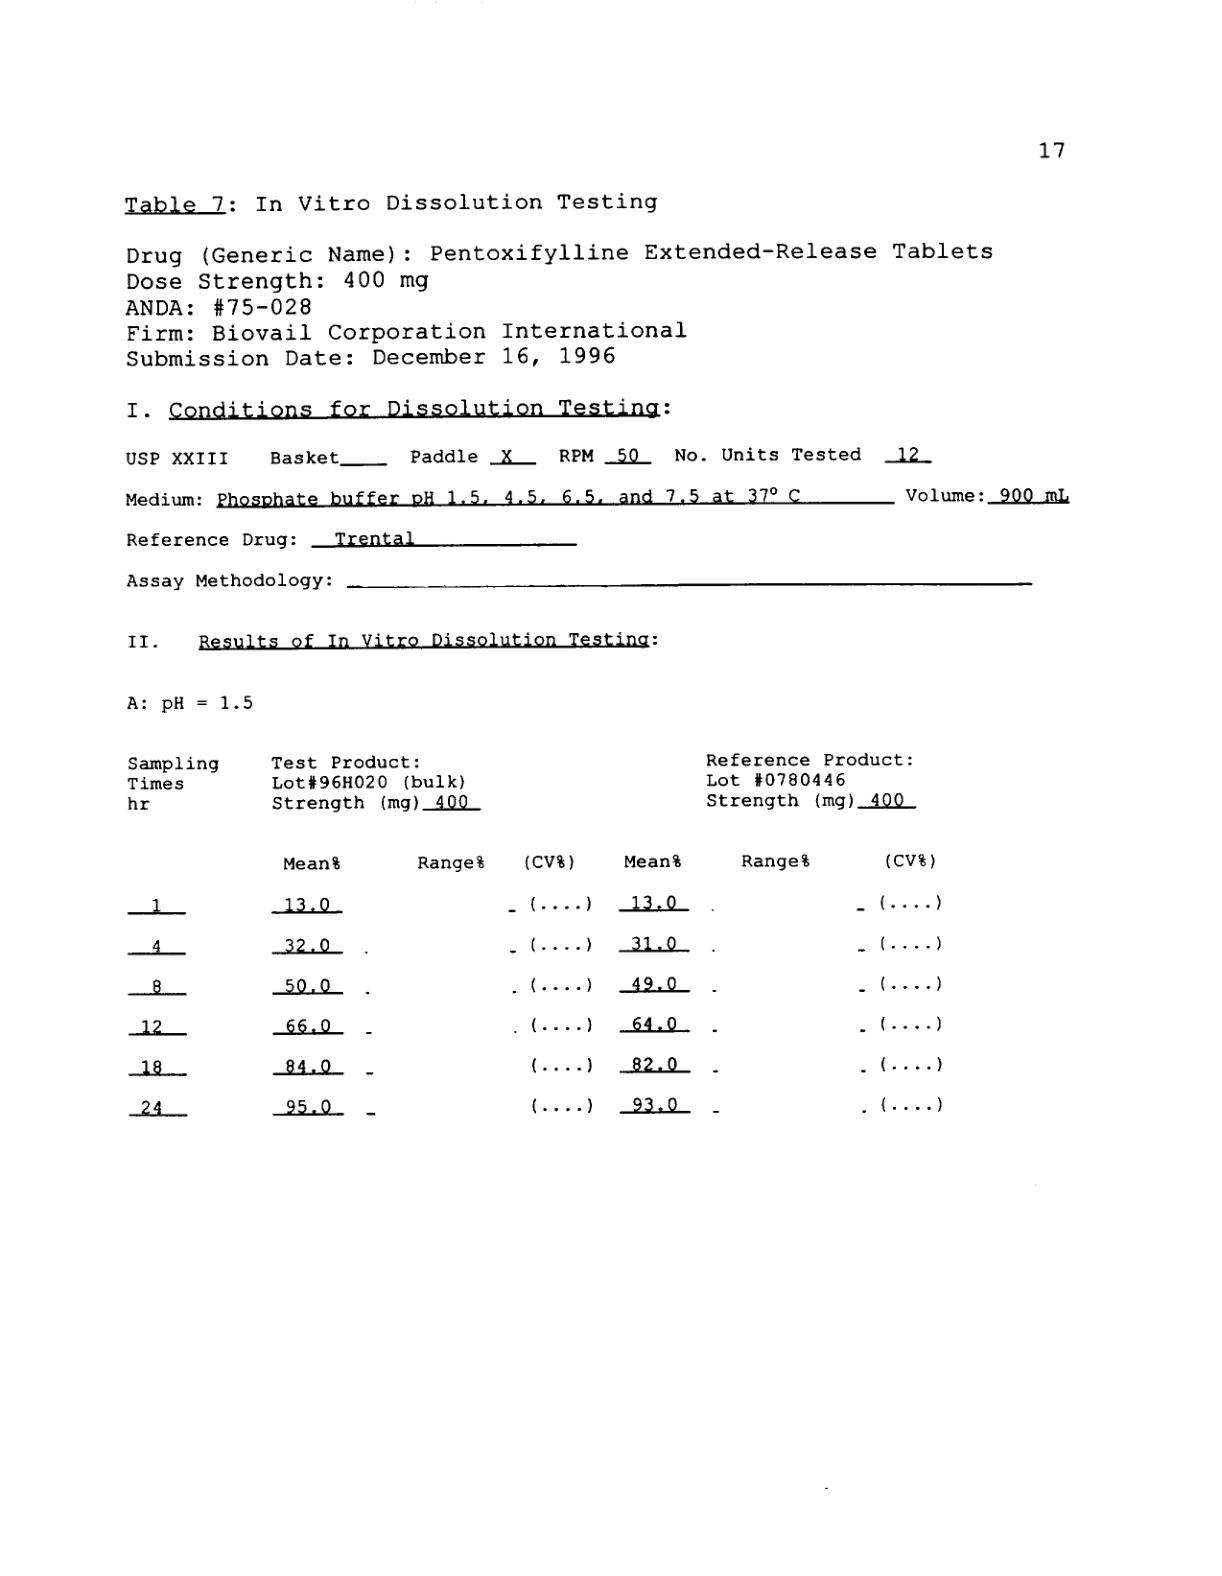nolines: (122, 753, 956, 1121)
